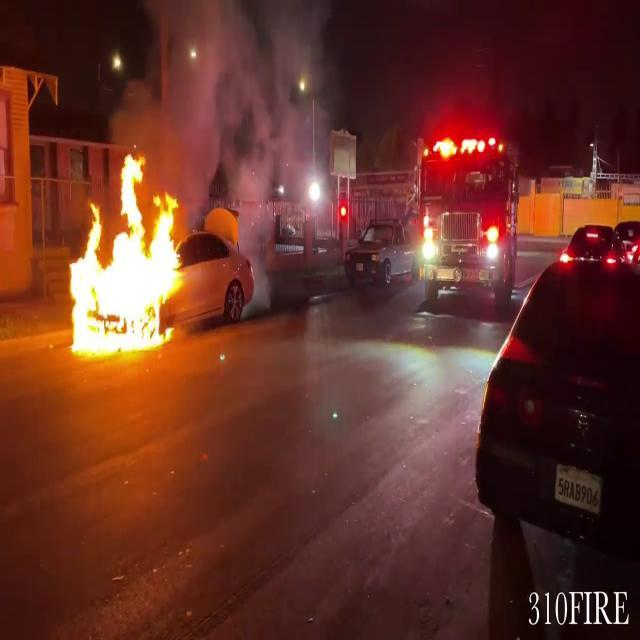Fire: (63, 146, 190, 360)
Smoke: (111, 0, 329, 199)
